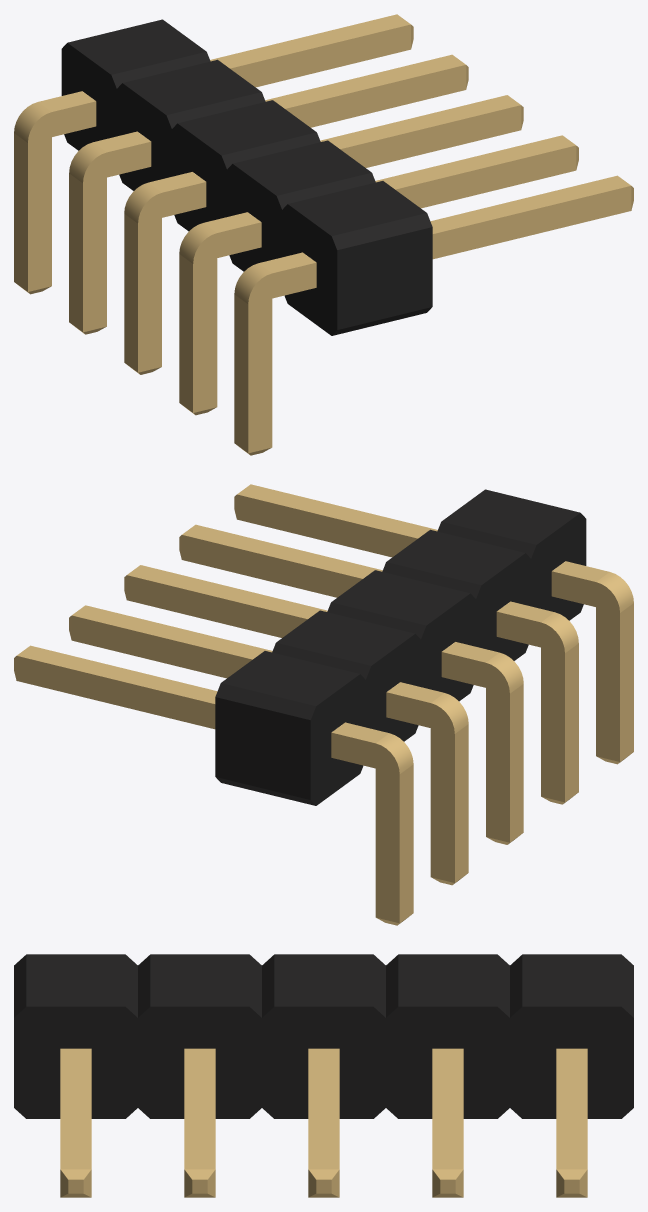
Rendered from kc-pinheader_1x05_p2.54mm_horizontal.glb.
The picture shows the model from 3 angles, top to bottom: view 1: azimuth 30°, elevation 25°; view 2: azimuth 150°, elevation 25°; view 3: azimuth 270°, elevation 25°; orthographic projection. The views are drawn at different scales.
Parts seen in each view (by area): view 1: 0.75_0.5_0.25_0.9, 0_0_0_0; view 2: 0.75_0.5_0.25_0.9, 0_0_0_0; view 3: 0_0_0_0, 0.75_0.5_0.25_0.9.
Part boxes in pixels (left/top/right/bottom): 0.75_0.5_0.25_0.9: left=14, top=14, right=633, bottom=455; 0_0_0_0: left=61, top=19, right=432, bottom=335; 0.75_0.5_0.25_0.9: left=14, top=484, right=633, bottom=925; 0_0_0_0: left=215, top=489, right=586, bottom=805; 0_0_0_0: left=14, top=954, right=633, bottom=1118; 0.75_0.5_0.25_0.9: left=60, top=1048, right=587, bottom=1197.
Size of the model in its own units: 1.04 by 0.554 by 1.27.
